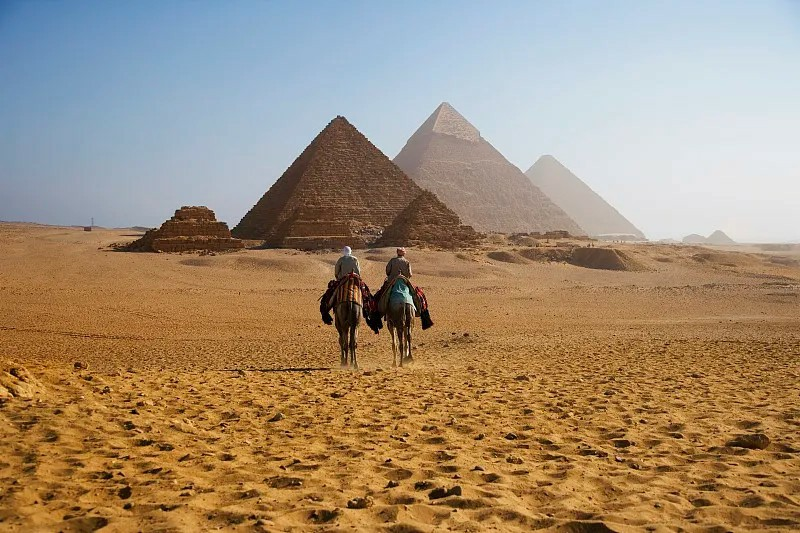Pyramid: (394, 102, 589, 240), (233, 115, 424, 241), (525, 156, 648, 240), (375, 191, 487, 248), (260, 201, 367, 249), (139, 207, 241, 251)
